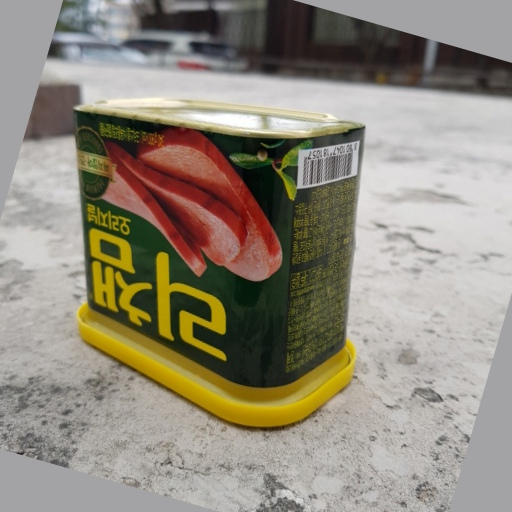Metal_2: (68, 91, 365, 432)
